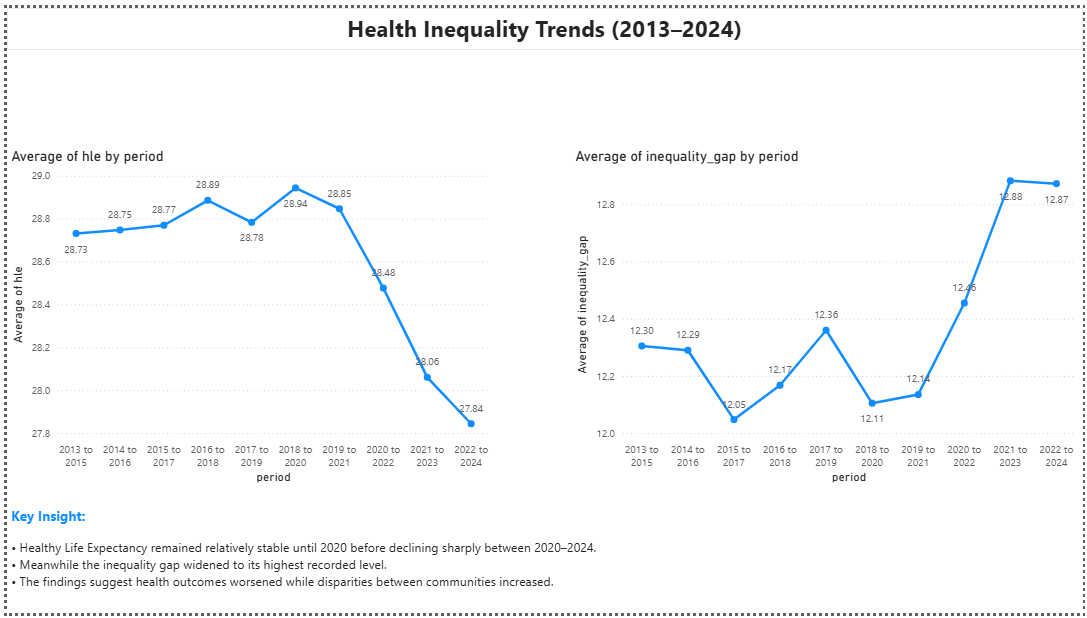

What the dashboard file says about the page in this screenshot:
{"tool":"powerbi","page":{"name":"Trend Analysis","canvas":[1280,720],"ordinal":2},"visuals":[{"type":"textbox","box":[0,0,1280,49.2],"z":0},{"type":"lineChart","fields":{"Category":["period_hle.period"],"Y":["Avg(period_hle.hle)"]},"box":[0,166,581.1,403.8],"z":1000},{"type":"lineChart","fields":{"Category":["inequality_gap.period"],"Y":["Avg(inequality_gap.inequality_gap)"]},"box":[671.7,166,607.5,403.8],"z":2000},{"type":"textbox","box":[0,586.7,1280,133.3],"z":3000}]}

Visuals, with their boxes in screenshot pixels (x1, y1, x2, y2), scaled from the page's 1280x720 canvas onto the 1087x618 screenshot:
textbox: [x1=0, y1=0, x2=1086, y2=42]
lineChart - period_hle.period x Avg(period_hle.hle): [x1=0, y1=142, x2=493, y2=489]
lineChart - inequality_gap.period x Avg(inequality_gap.inequality_gap): [x1=570, y1=142, x2=1086, y2=489]
textbox: [x1=0, y1=504, x2=1086, y2=617]
